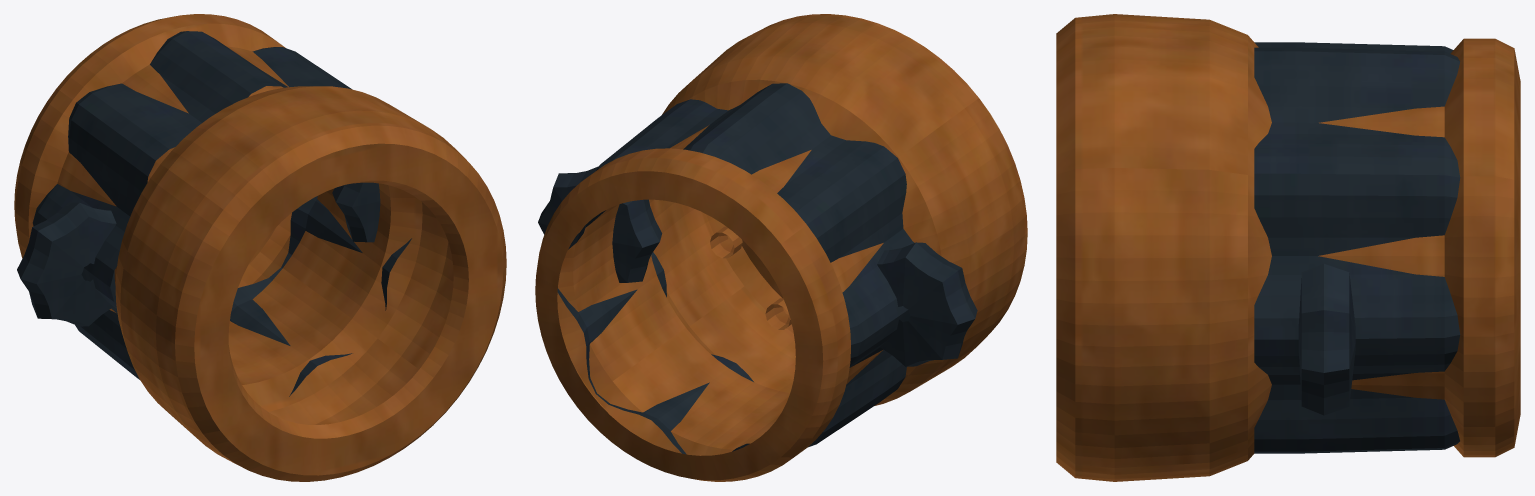
File: hero-shadow-lantern.glb
3 views of the same model, side by side, from view 1: azimuth 30°, elevation 25°; view 2: azimuth 150°, elevation 25°; view 3: azimuth 270°, elevation 25° (orthographic). The views are drawn at different scales.
Parts seen in each view (by area): view 1: Amber hammered bronze, Smoky blued metal; view 2: Amber hammered bronze, Smoky blued metal; view 3: Amber hammered bronze, Smoky blued metal.
Part boxes in pixels (<box>): Amber hammered bronze: <box>14,14,506,481</box>; Smoky blued metal: <box>17,31,411,396</box>; Amber hammered bronze: <box>535,14,1027,481</box>; Smoky blued metal: <box>538,83,977,454</box>; Amber hammered bronze: <box>1056,14,1520,481</box>; Smoky blued metal: <box>1254,42,1460,453</box>.
Bounding box in the file's own units: 0.9492 × 0.738 × 0.732.
2 materials, 2 textured.
